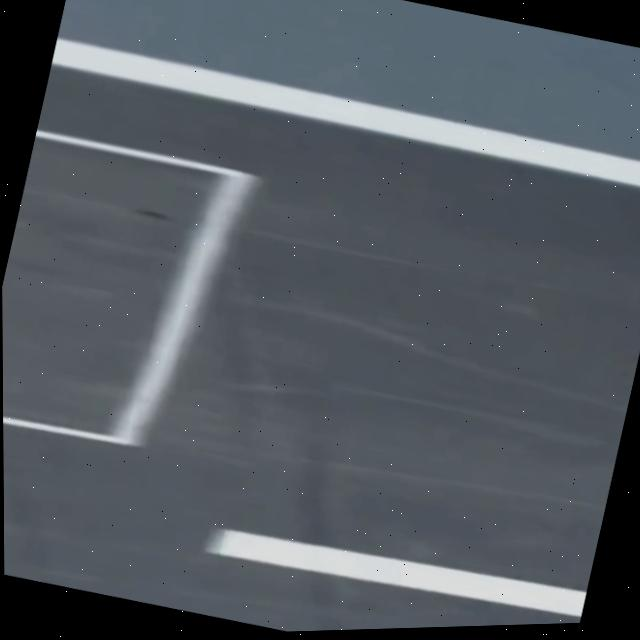center: (206, 528, 587, 616)
left: (51, 37, 640, 185)
